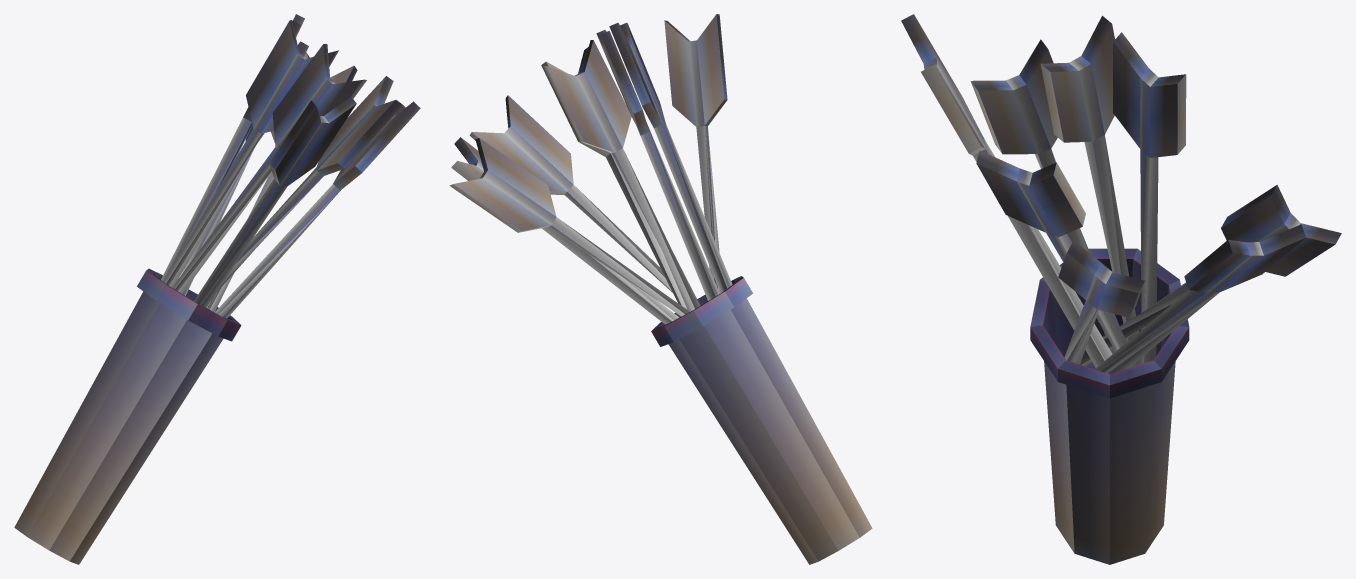
Rendered from quiver.fbx.
3 renders of one model, left to right at view 1: azimuth 30°, elevation 25°; view 2: azimuth 150°, elevation 25°; view 3: azimuth 270°, elevation 25°, orthographic. The views are drawn at different scales.
Visible parts, largest first — view 1: quiver, arrow_2, arrow_11, arrow_9, arrow_12, arrow_1, arrow_3, arrow_13, arrow_6; view 2: quiver, arrow_3, arrow_13, arrow_2, arrow_1, arrow_9, arrow_11, arrow_6, arrow_12; view 3: quiver, arrow_3, arrow_11, arrow_6, arrow_12, arrow_9, arrow_2, arrow_13, arrow_1.
Boxes of the visible parts, left/top/right/bottom form: quiver: left=14, top=268, right=241, bottom=564; arrow_2: left=194, top=97, right=356, bottom=307; arrow_11: left=163, top=20, right=338, bottom=287; arrow_9: left=172, top=44, right=366, bottom=293; arrow_12: left=194, top=76, right=402, bottom=300; arrow_1: left=215, top=101, right=420, bottom=318; arrow_3: left=161, top=14, right=304, bottom=280; arrow_13: left=181, top=41, right=308, bottom=295; arrow_6: left=206, top=52, right=357, bottom=312; quiver: left=651, top=276, right=872, bottom=564; arrow_3: left=543, top=40, right=700, bottom=310; arrow_13: left=449, top=138, right=690, bottom=316; arrow_2: left=664, top=14, right=727, bottom=293; arrow_1: left=469, top=95, right=672, bottom=292; arrow_9: left=609, top=22, right=732, bottom=292; arrow_11: left=596, top=30, right=719, bottom=300; arrow_6: left=451, top=137, right=679, bottom=324; arrow_12: left=541, top=47, right=691, bottom=311; quiver: left=1030, top=248, right=1189, bottom=564; arrow_3: left=1113, top=32, right=1186, bottom=363; arrow_11: left=1040, top=15, right=1141, bottom=364; arrow_6: left=1095, top=224, right=1305, bottom=373; arrow_12: left=976, top=150, right=1139, bottom=367; arrow_9: left=970, top=39, right=1119, bottom=353; arrow_2: left=901, top=14, right=1112, bottom=367; arrow_13: left=1080, top=185, right=1341, bottom=366; arrow_1: left=1058, top=240, right=1144, bottom=364.
Size of the model in its own units: 136 by 160 by 91.59.
